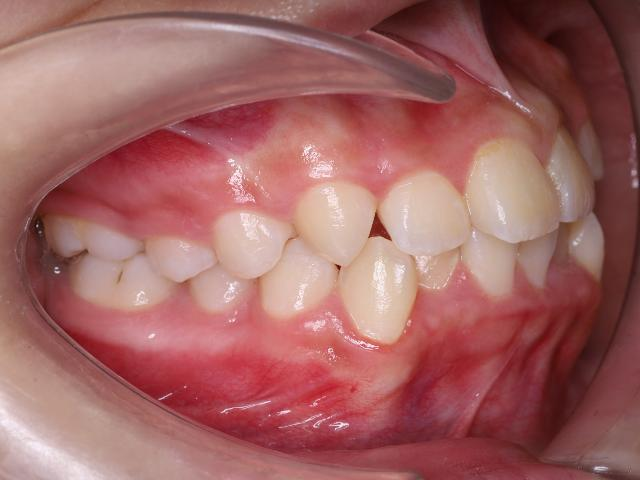canine class II 1/4: (257, 165, 417, 354)
molar class III 1/2: (40, 206, 176, 316)
